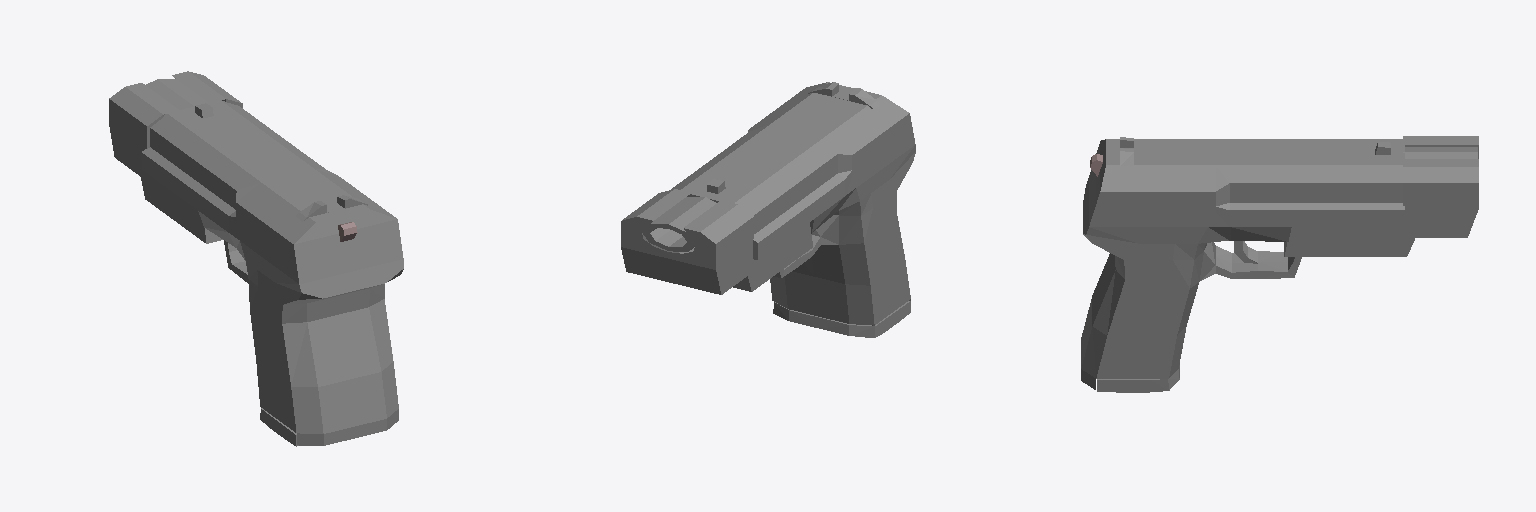
Rendered from gun.obj.
The picture shows the model from 3 angles: view 1: azimuth 30°, elevation 25°; view 2: azimuth 150°, elevation 25°; view 3: azimuth 270°, elevation 25°; orthographic projection.
Visible parts, largest first — view 1: Box001.002; view 2: Box001.002; view 3: Box001.002.
Boxes of the visible parts, x1=… form: Box001.002: x1=109, y1=71, x2=403, y2=446; Box001.002: x1=621, y1=82, x2=915, y2=337; Box001.002: x1=1081, y1=136, x2=1478, y2=392.
Bounding box in the file's own units: 0.1851 × 0.3795 × 0.6101.